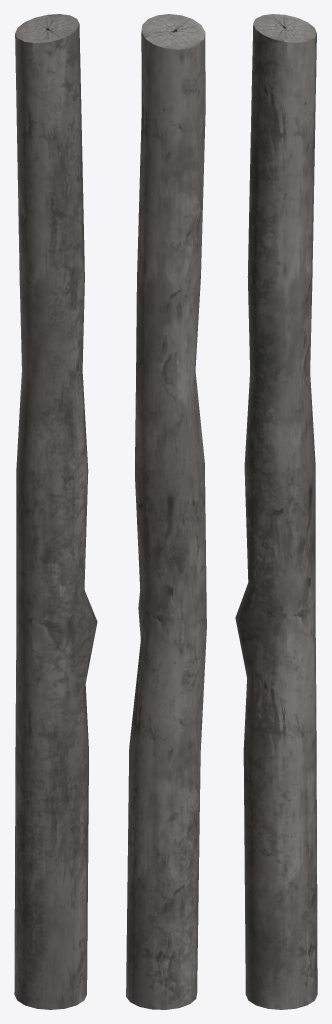
Rendered from SM_SmallPosts_2.fbx.
3 views of the same model, side by side, from view 1: azimuth 90°, elevation 25°; view 2: azimuth 210°, elevation 25°; view 3: azimuth 270°, elevation 25° (orthographic).
Visible parts, largest first — view 1: SM_SmallPosts_2_LOD0; view 2: SM_SmallPosts_2_LOD0; view 3: SM_SmallPosts_2_LOD0.
Boxes of the visible parts, bbox=[...] form: SM_SmallPosts_2_LOD0: bbox=[14, 14, 97, 1009]; SM_SmallPosts_2_LOD0: bbox=[126, 14, 206, 1009]; SM_SmallPosts_2_LOD0: bbox=[235, 14, 317, 1009].
Bounding box in the file's own units: 14.64 × 14.54 × 189.
